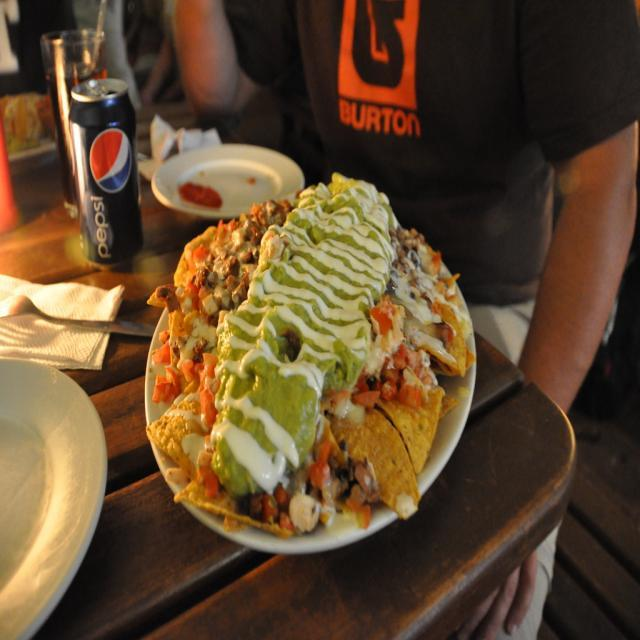ceramic plate: (0, 346, 124, 639), (148, 138, 305, 216)
